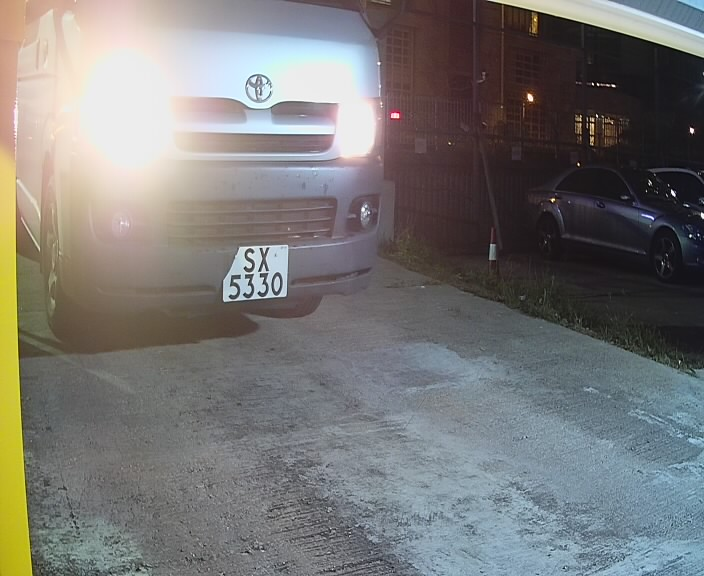Car: (26, 5, 419, 357)
License Plate: (211, 242, 296, 306)
